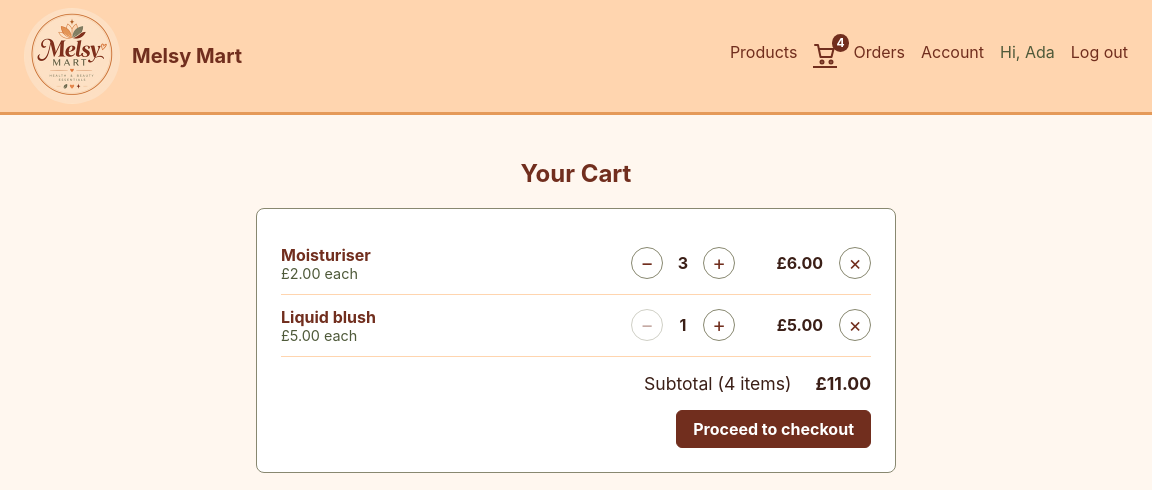
Test case: + sends the quantity plus one and shows the new cart
expect the heading "Your Cart" is shown: met, box left=521, top=159, right=631, bottom=188
expect the text "Moisturiser" is shown: met, box left=281, top=245, right=371, bottom=265
Click the button named "Increase quantity of Moisturiser" at (719,263), box left=703, top=247, right=735, bottom=279
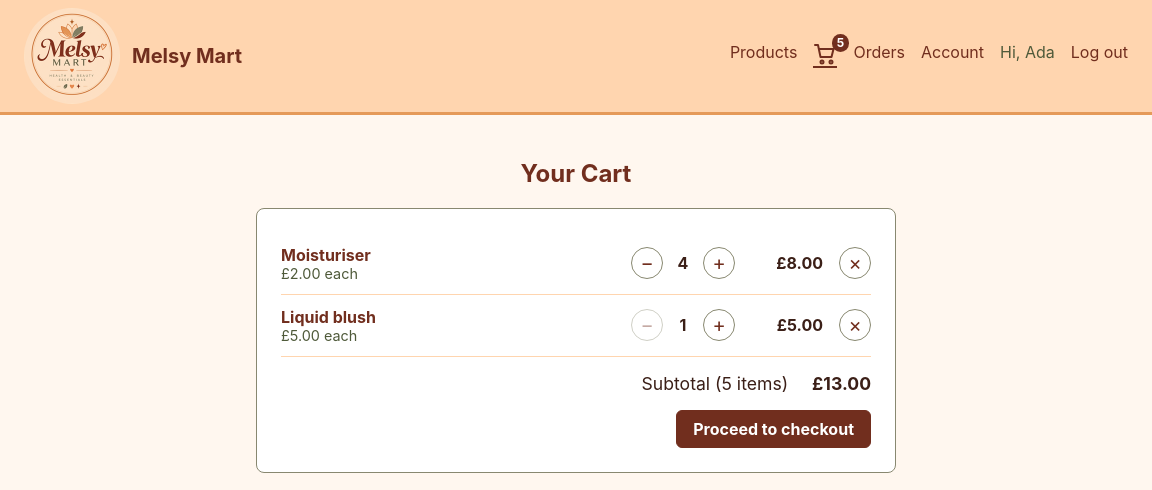
expect the link named "Cart, 5 items" is shown: met, box left=813, top=42, right=837, bottom=68
expect the text "£8.00" is shown: met, box left=776, top=253, right=823, bottom=273
expect the text "£13.00" is shown: met, box left=812, top=373, right=871, bottom=394
